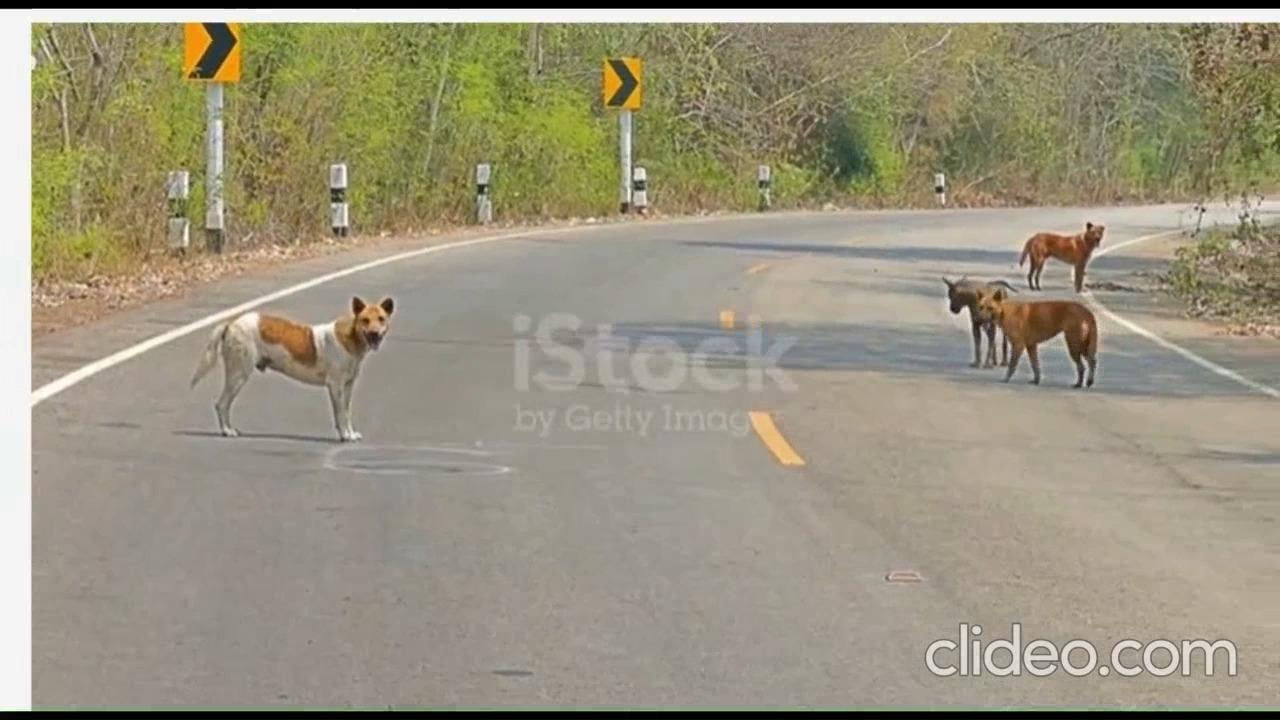dog: (190, 294, 403, 440), (974, 288, 1097, 394), (1007, 217, 1119, 286), (941, 268, 1006, 364)
